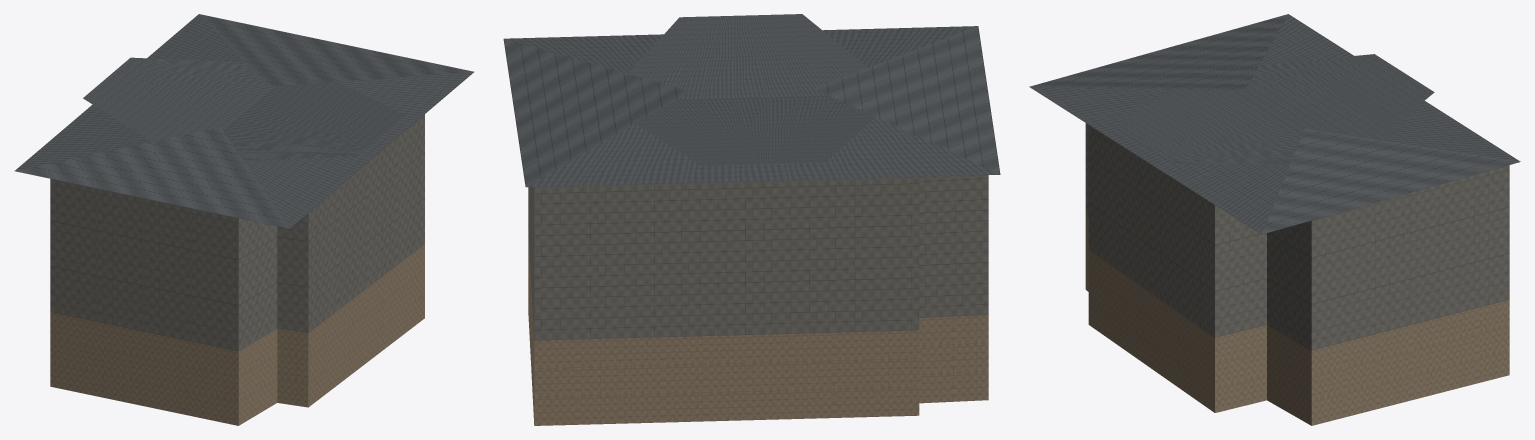
Rendered from bld_c2_-8_595.gltf.
3 views of the same model, side by side, from view 1: azimuth 30°, elevation 25°; view 2: azimuth 150°, elevation 25°; view 3: azimuth 270°, elevation 25° (orthographic). The views are drawn at different scales.
Visible parts, largest first — view 1: bld_c2_-8_595; view 2: bld_c2_-8_595; view 3: bld_c2_-8_595.
Boxes of the visible parts, x1,y1,x2,y2 form: bld_c2_-8_595: [14, 14, 474, 425]; bld_c2_-8_595: [503, 14, 1000, 425]; bld_c2_-8_595: [1029, 14, 1520, 425].
Bounding box in the file's own units: 32.03 × 15.5 × 30.17.
3 materials, 3 textured.
